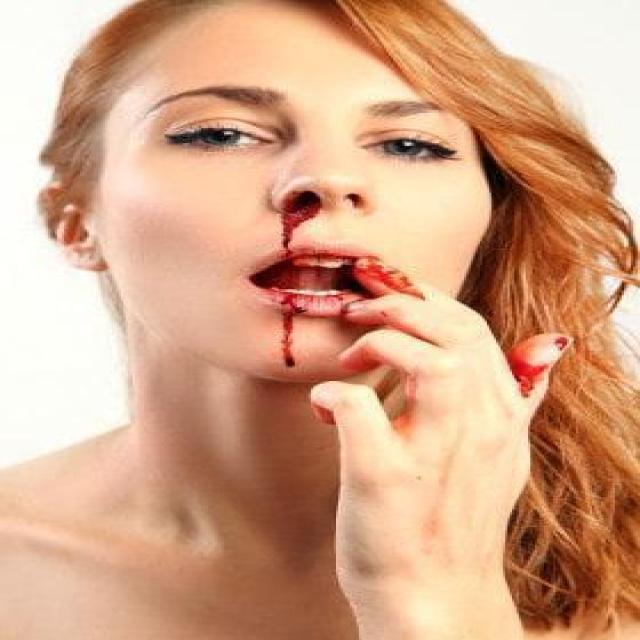flood: (258, 192, 424, 391), (507, 336, 553, 400)
